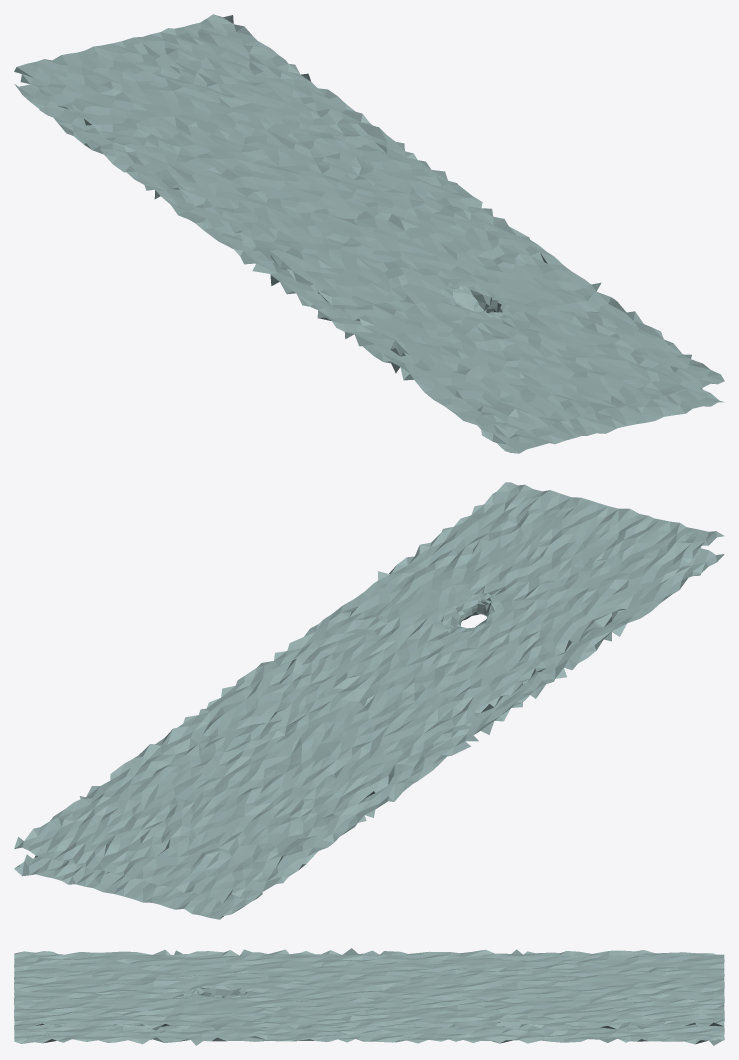
File: Cave_Floor_Hole.fbx
3 views of the same model, one above another, from view 1: azimuth 30°, elevation 25°; view 2: azimuth 150°, elevation 25°; view 3: azimuth 270°, elevation 25° (orthographic). The views are drawn at different scales.
Parts seen in each view (by area): view 1: Cave_Floor_Hole; view 2: Cave_Floor_Hole; view 3: Cave_Floor_Hole.
Part boxes in pixels (<box>): Cave_Floor_Hole: <box>14,14,724,453</box>; Cave_Floor_Hole: <box>14,482,724,919</box>; Cave_Floor_Hole: <box>14,948,724,1045</box>.
Bounding box in the file's own units: 52132 × 7334 × 200225.
